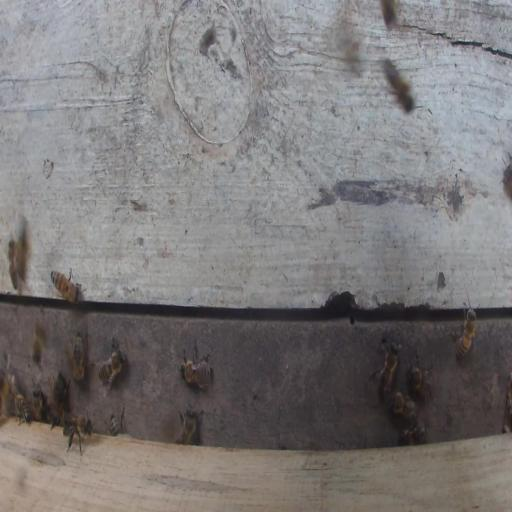Insects: (369, 341, 399, 401), (180, 338, 213, 391), (451, 300, 477, 361), (384, 61, 414, 111), (62, 409, 92, 456), (98, 338, 125, 389), (50, 265, 84, 304), (406, 361, 433, 397), (175, 407, 199, 445), (389, 390, 417, 419), (72, 330, 85, 383), (398, 423, 427, 446), (33, 319, 47, 366), (51, 371, 69, 406), (7, 240, 19, 291), (13, 393, 32, 425), (109, 408, 126, 437), (379, 0, 397, 27), (47, 405, 64, 430), (32, 387, 43, 422)
